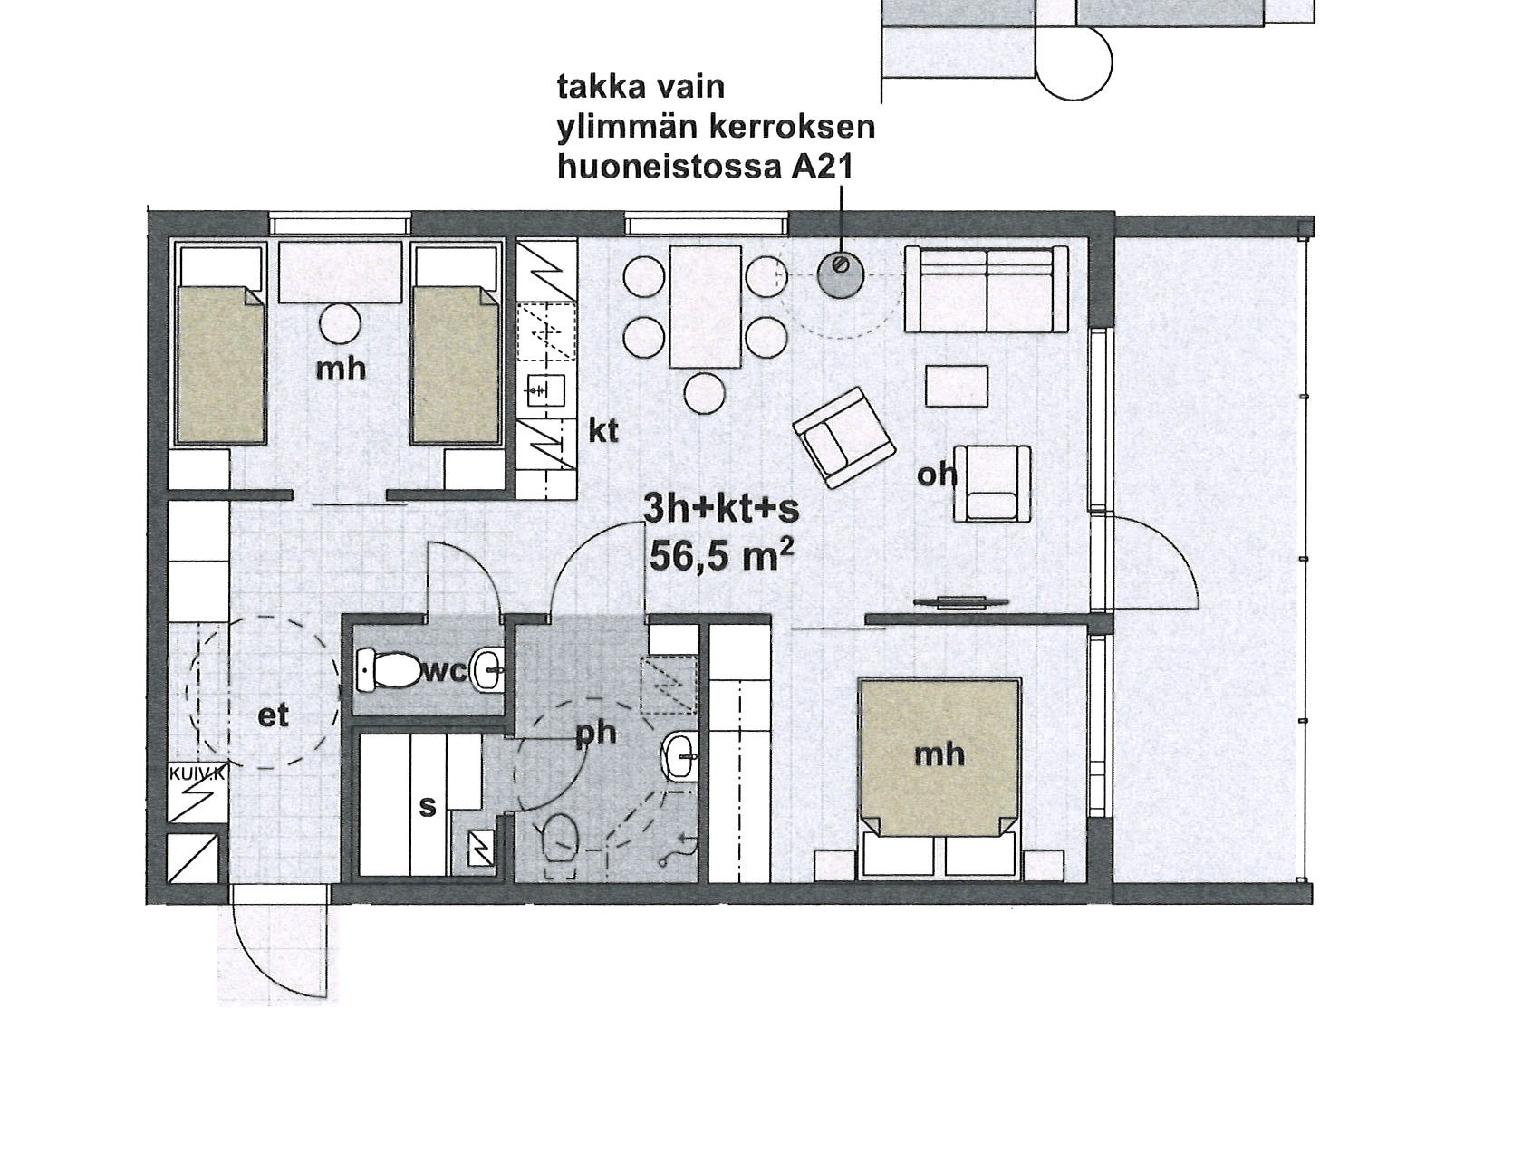door: (1086, 502, 1203, 623), (230, 881, 333, 1010), (547, 519, 655, 614), (423, 541, 508, 629)
window: (1083, 319, 1118, 515), (632, 205, 788, 238), (1086, 637, 1114, 820), (269, 212, 416, 243)
zone: (163, 225, 1103, 881), (1115, 237, 1305, 887), (713, 617, 1086, 871), (175, 229, 511, 493), (511, 620, 696, 877), (358, 728, 496, 871), (353, 621, 505, 707)
